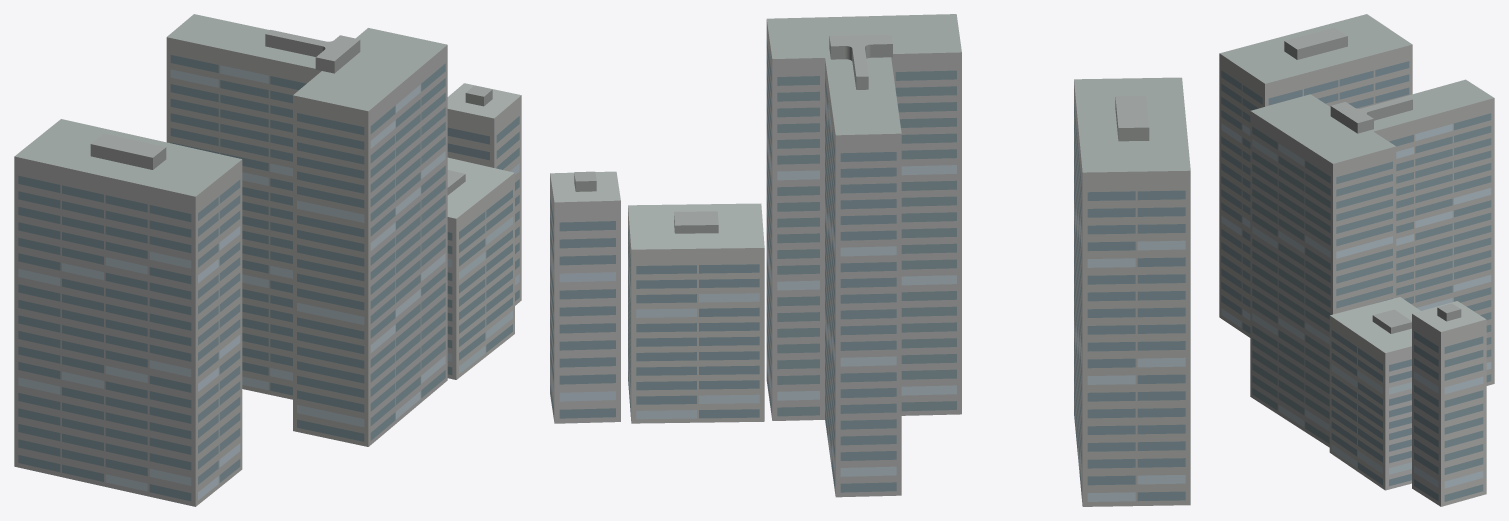
Rendered from apt-a15284101.glb.
3 views of the same model, side by side, from view 1: azimuth 30°, elevation 25°; view 2: azimuth 150°, elevation 25°; view 3: azimuth 270°, elevation 25° (orthographic). The views are drawn at different scales.
Parts seen in each view (by area): view 1: apt-a15284101; view 2: apt-a15284101; view 3: apt-a15284101.
Boxes of the visible parts, x1,y1,x2,y2 form: apt-a15284101: (14,14,521,506); apt-a15284101: (550,14,1190,506); apt-a15284101: (1219,14,1494,506).
Size of the model in its own units: 113 by 68 by 57.18.
